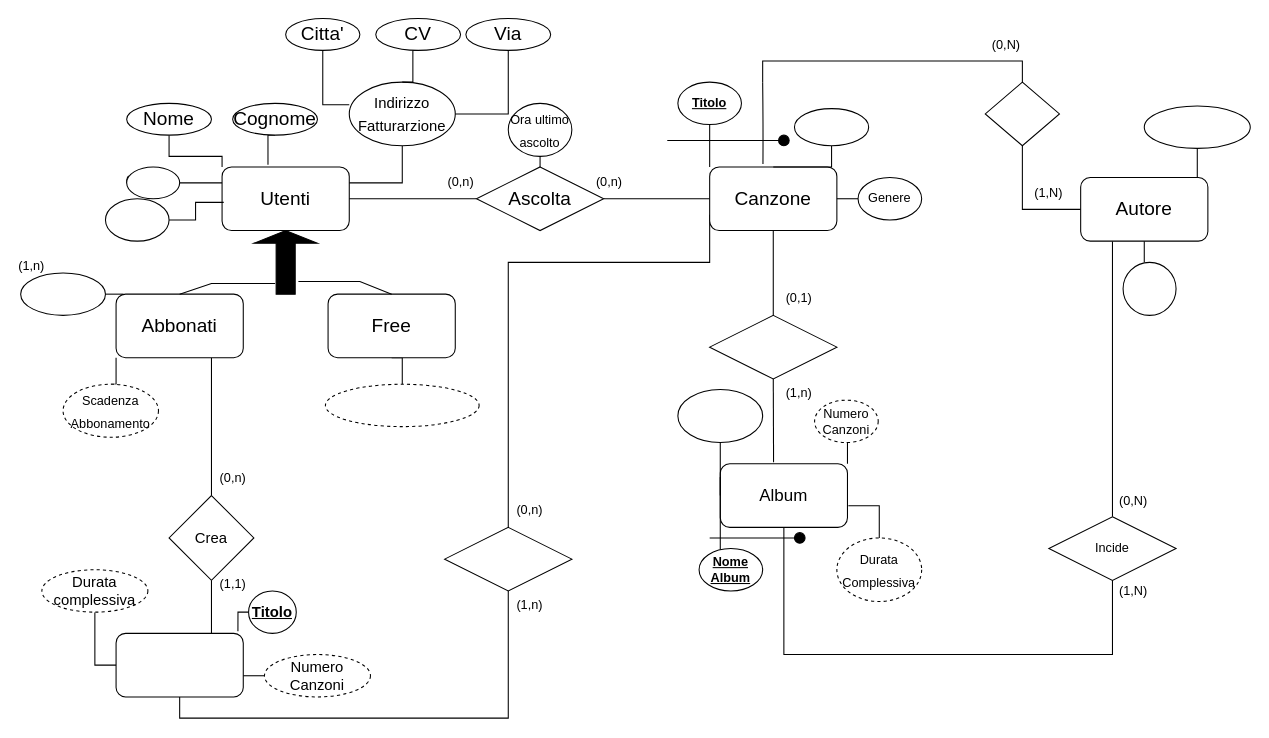
The diagram is 1269 pixels wide and 738 high, and some of its shapes have lost their labels. The centre of each missing label's shape, as x and y in pixels:
"Anni Esperienza" goes at point (1196, 126).
"Appartiene" goes at point (773, 346).
"CF" goes at point (153, 182).
"Data Iscrizione" goes at point (136, 219).
"Data pubblicazione" goes at point (720, 415).
"Lunghezza" goes at point (831, 127).
"Nome d'arte" goes at point (1149, 288).
"Playlist" goes at point (179, 664).
"Raccolta" goes at point (508, 558).
"Scadenza Periodo di prova" goes at point (401, 405).
"Scrive" goes at point (1021, 113).
"Tipo Abbonamento" goes at point (62, 293).
